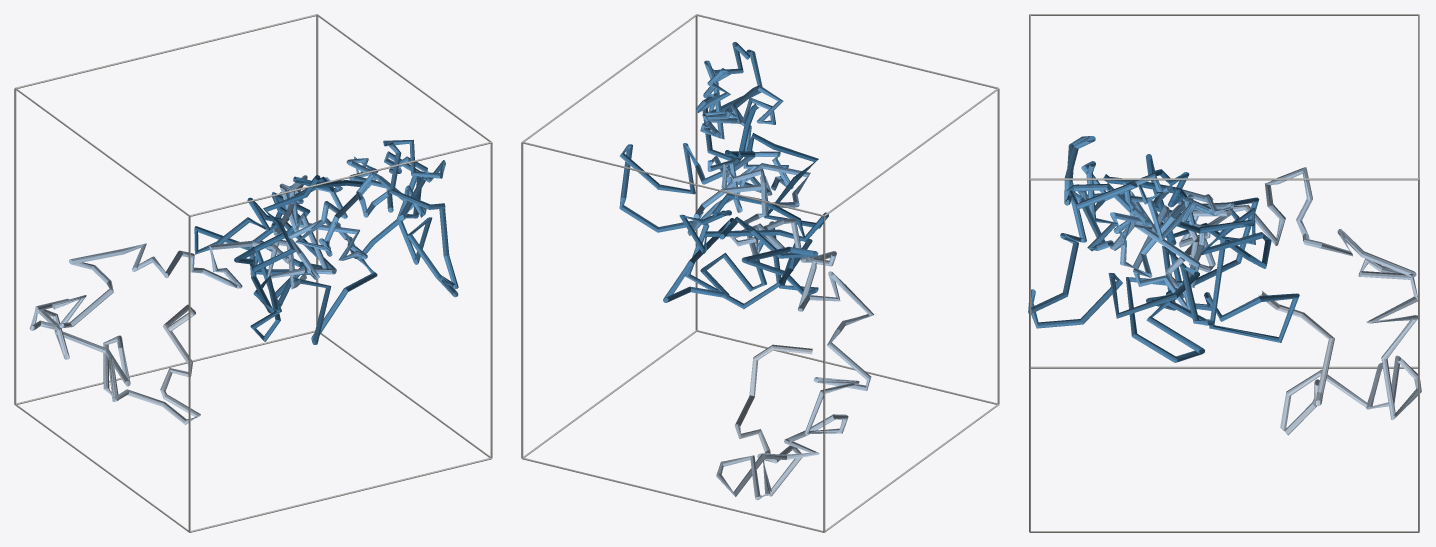
3 views of the same model, side by side, from view 1: azimuth 30°, elevation 25°; view 2: azimuth 150°, elevation 25°; view 3: azimuth 270°, elevation 25° (orthographic). The views are drawn at different scales.
Visible parts, largest first — view 1: geometry_0, geometry_1; view 2: geometry_0, geometry_1; view 3: geometry_0, geometry_1.
Boxes of the visible parts, box(x1,y1,x2,y2) form: geometry_0: box(29, 139, 458, 424); geometry_1: box(14, 14, 492, 532); geometry_0: box(619, 42, 873, 500); geometry_1: box(521, 14, 999, 532); geometry_0: box(1028, 136, 1421, 435); geometry_1: box(1029, 14, 1419, 532).
Size of the model in its own units: 0.3042 by 0.3038 by 0.3037.
